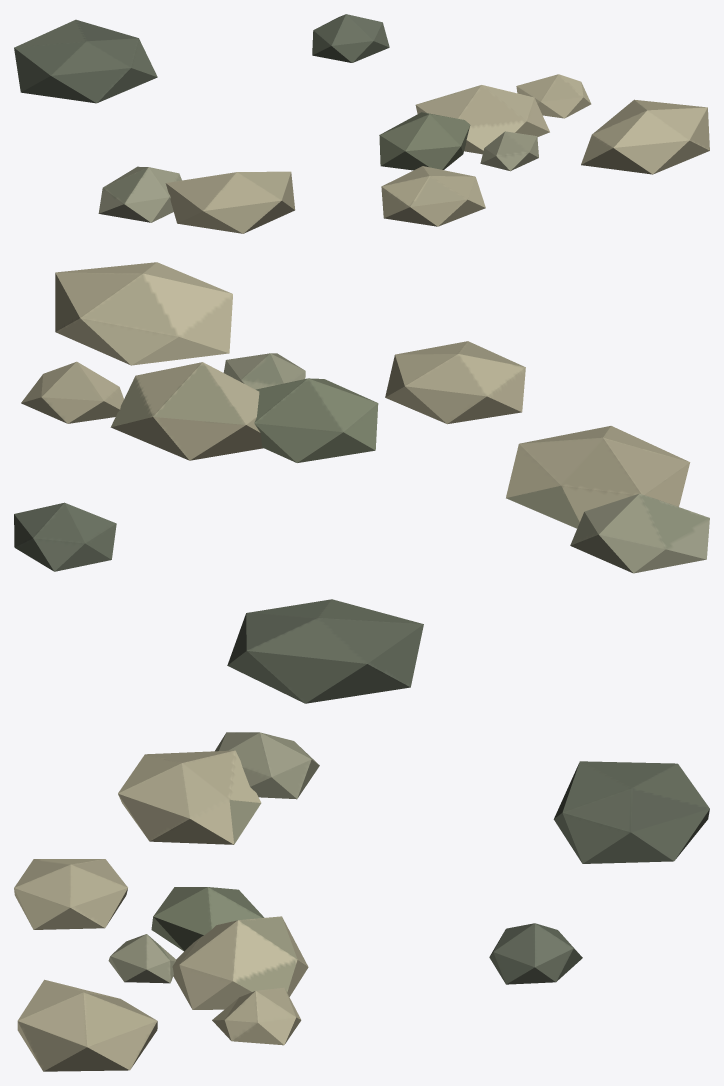
Rendered from SM_Rock_Pebbles.glb.
The picture shows the model from 3 angles, top to bottom: view 1: azimuth 30°, elevation 25°; view 2: azimuth 150°, elevation 25°; view 3: azimuth 270°, elevation 25°; orthographic projection. The views are drawn at different scales.
Visible parts, largest first — view 1: SM_Rock_Pebbles; view 2: SM_Rock_Pebbles; view 3: SM_Rock_Pebbles.
Boxes of the visible parts, box(x1,y1,x2,y2) form: SM_Rock_Pebbles: box(14, 14, 709, 233); SM_Rock_Pebbles: box(14, 262, 709, 703); SM_Rock_Pebbles: box(14, 732, 709, 1071).
Size of the model in its own units: 1.09 by 0.1091 by 0.9666.
Materials: 1 (1 with a texture image).
